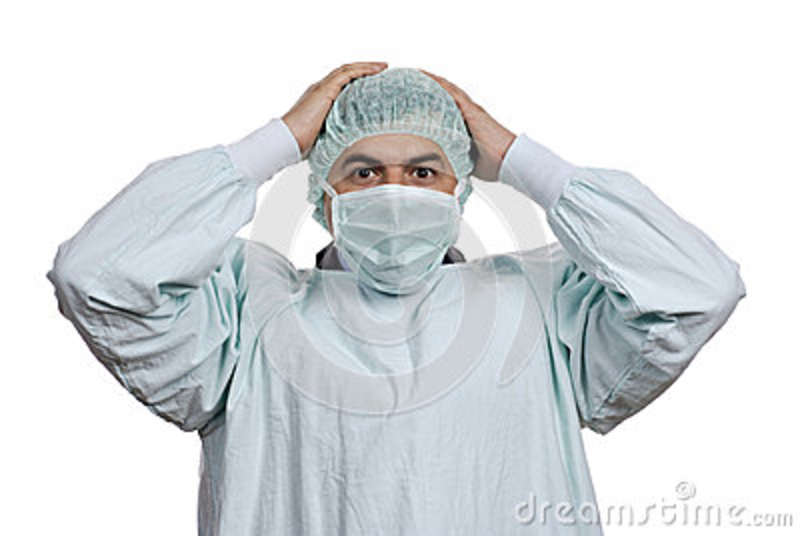mask: (332, 185, 467, 297)
